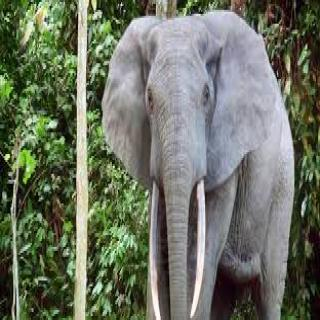Elephant: (100, 12, 296, 320)
